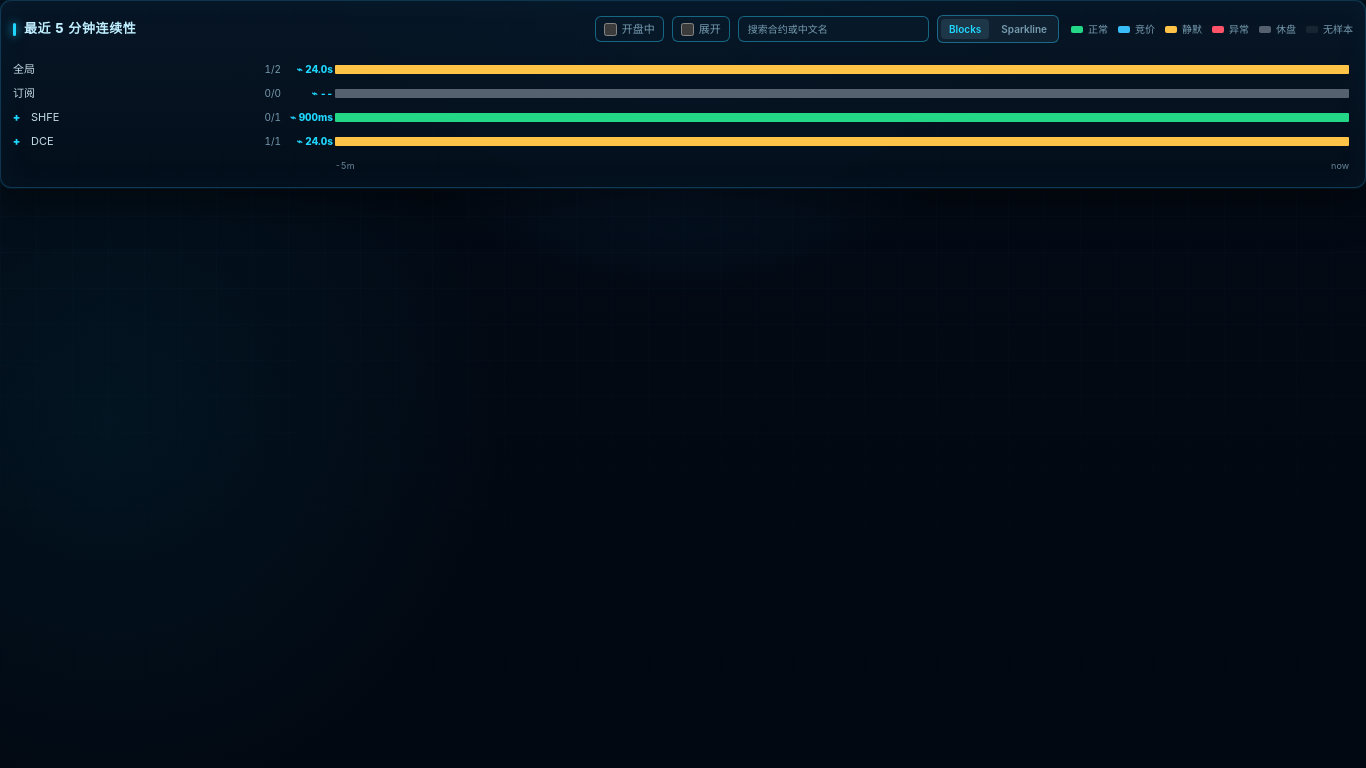
Scenario: ContinuityTimeline › shows symbols directly when exchange grouping is disabled
Click the checkbox labelled "展开": [687, 29] box [681, 22, 694, 36]
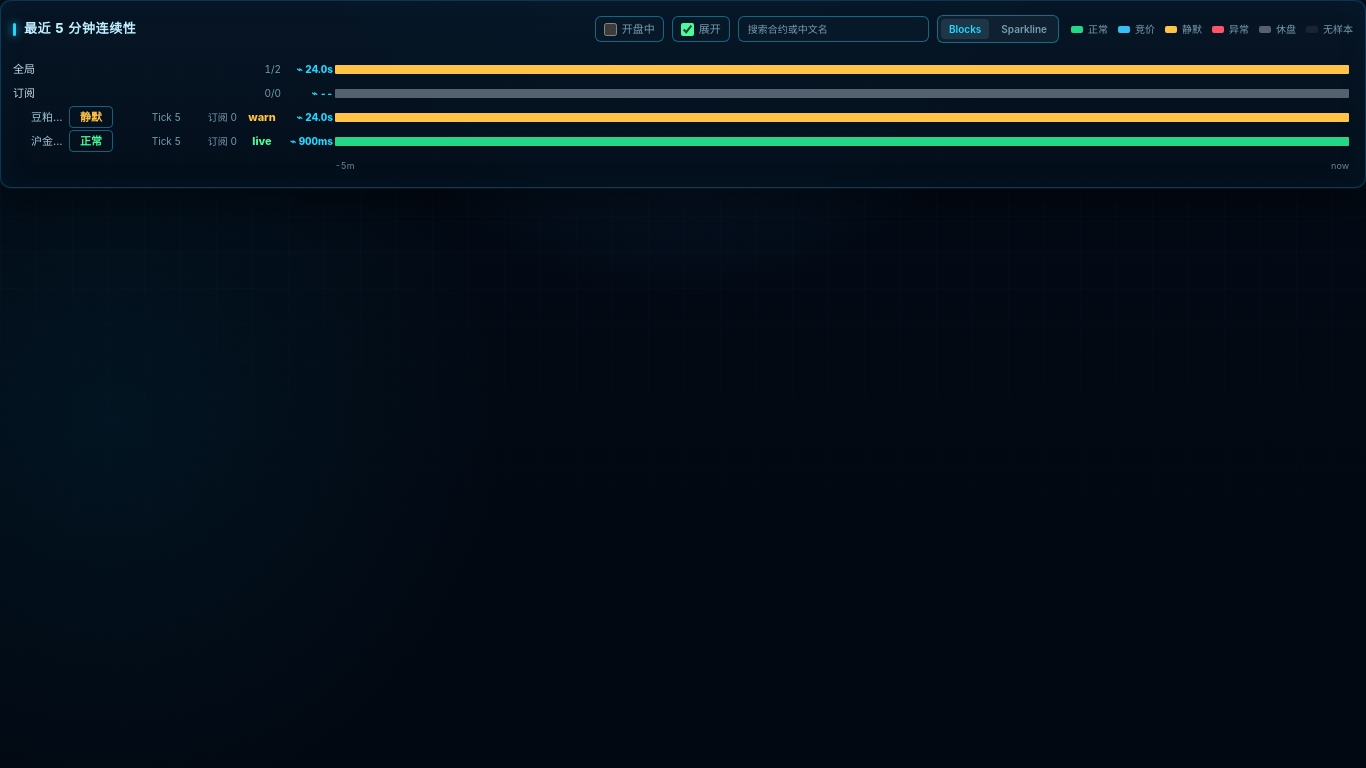
Check: the button "DCE" is gone
Check: the button "SHFE" is gone
Check: the text "豆粕2609" is shown, box [31, 109, 63, 125]
